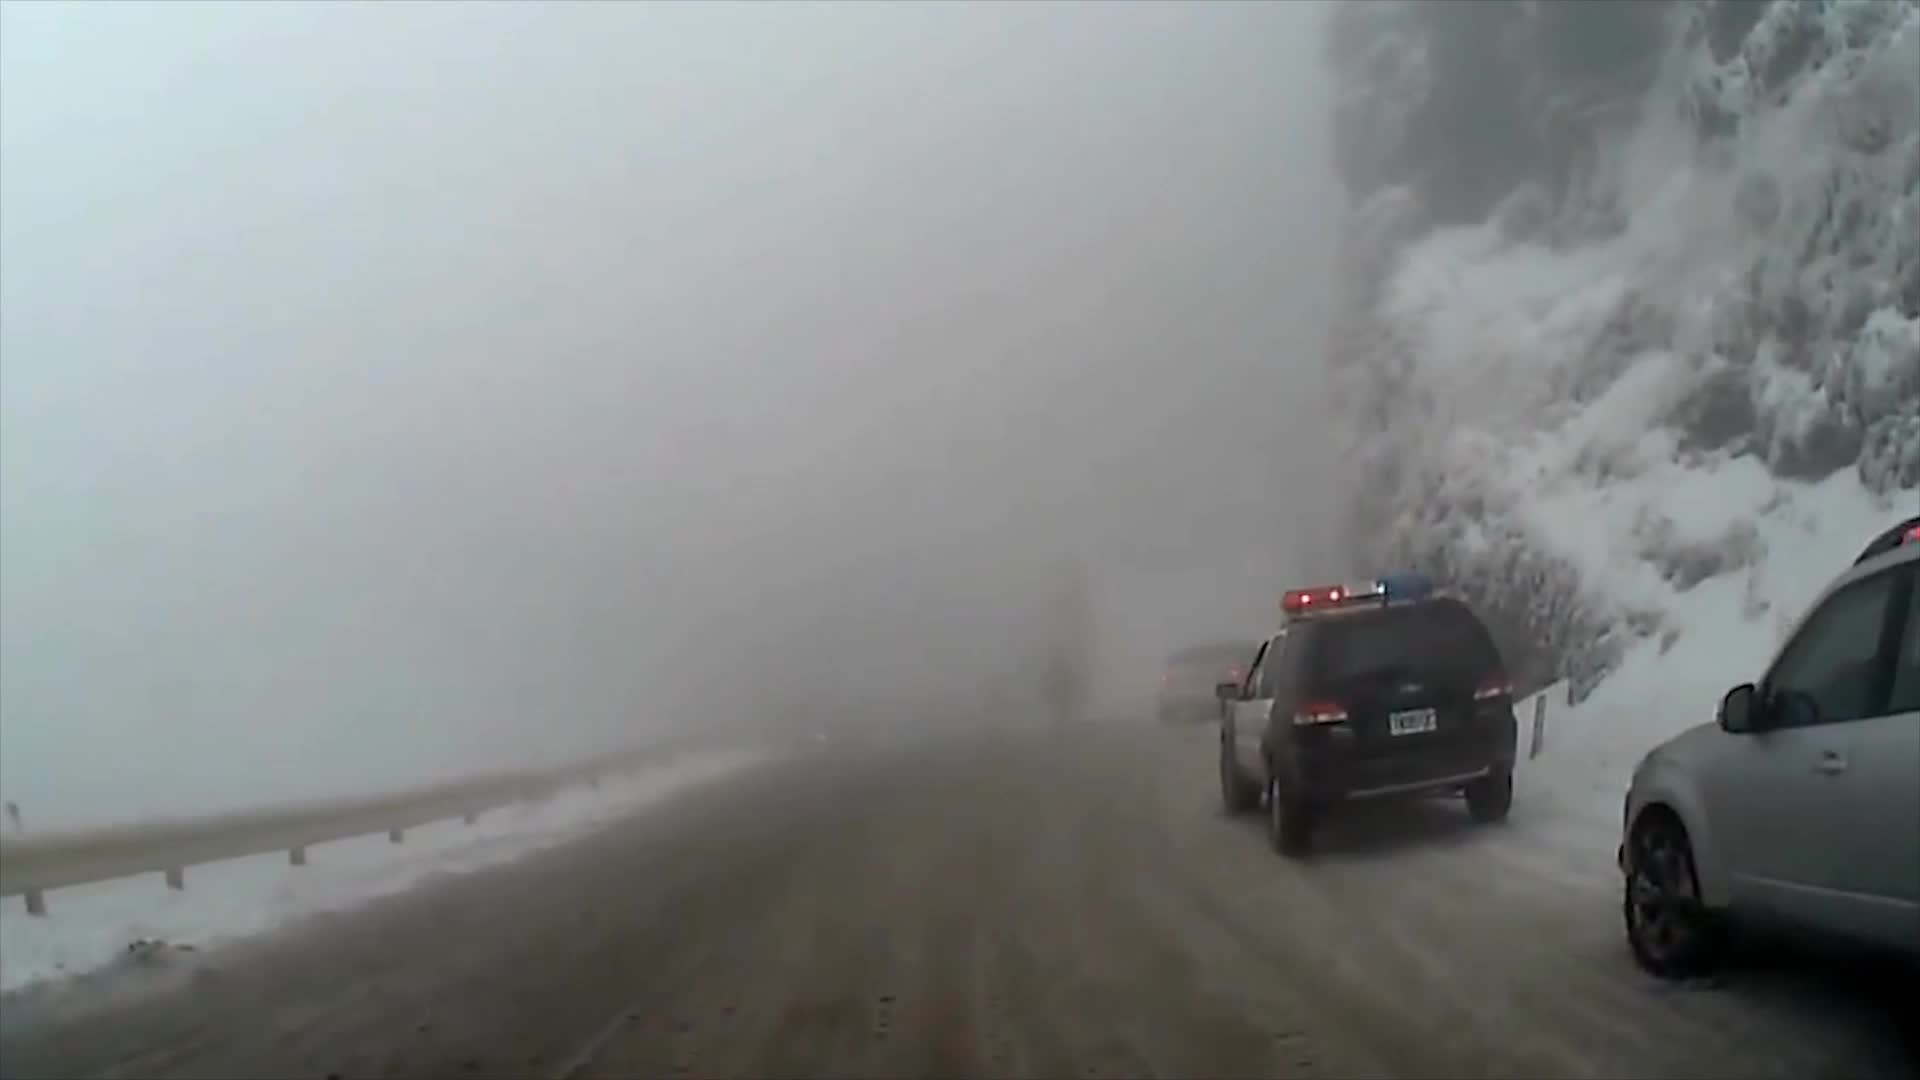vehicle: (1611, 516, 1920, 1059), (1209, 574, 1515, 857)
